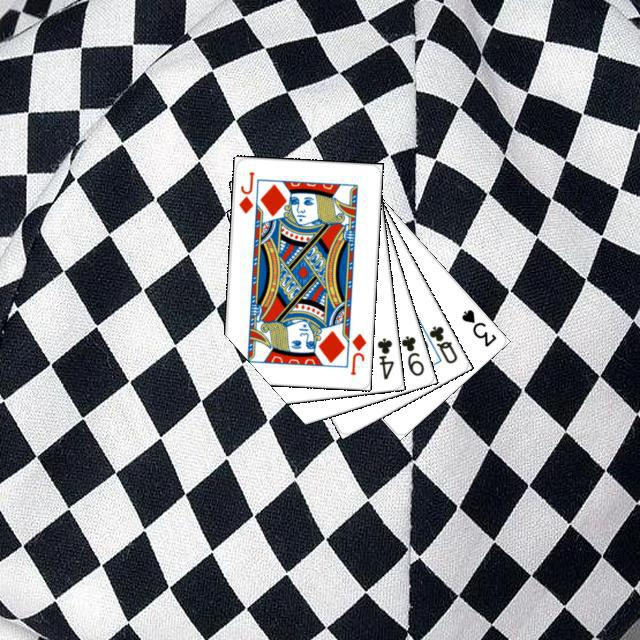3s: (456, 304, 498, 348)
4c: (372, 333, 396, 381)
9c: (396, 331, 426, 378)
Jd: (345, 329, 368, 377), (234, 167, 256, 215)
Qc: (417, 321, 459, 365)
